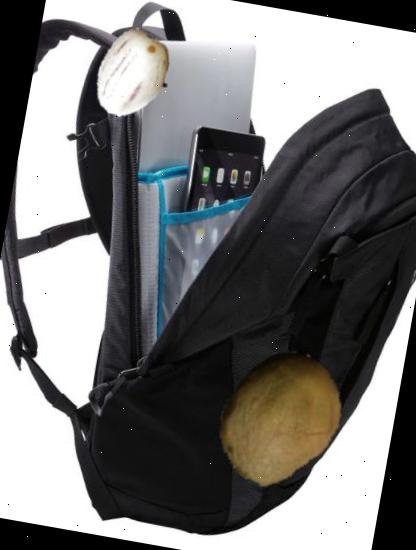Papaya: (199, 339, 357, 498)
Pepino: (81, 21, 186, 126)
